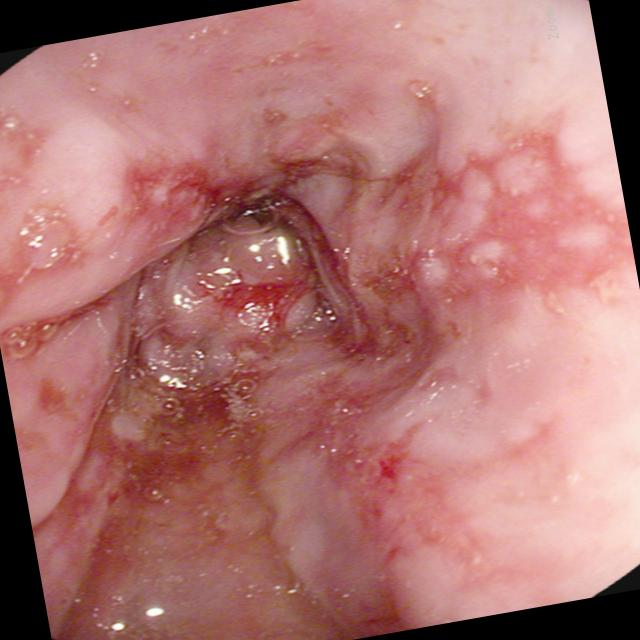esophagitis: (0, 94, 637, 640)
